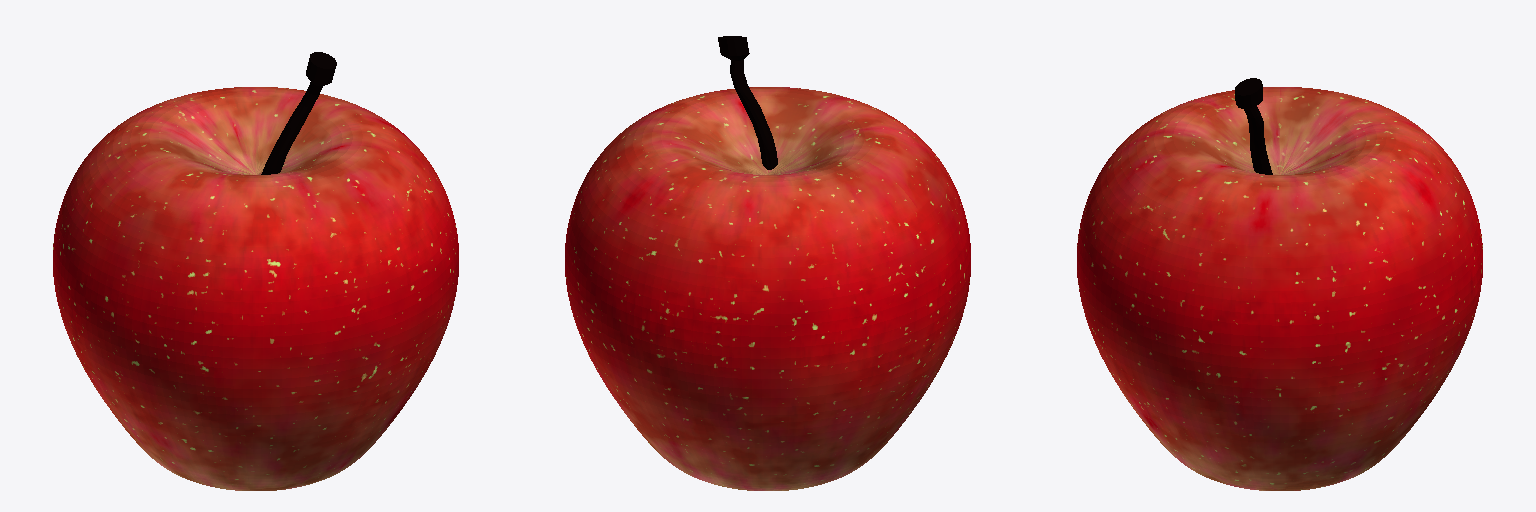
3 renders of one model, left to right at view 1: azimuth 30°, elevation 25°; view 2: azimuth 150°, elevation 25°; view 3: azimuth 270°, elevation 25°, orthographic.
Visible parts, largest first — view 1: 球, ベジエカーブ; view 2: 球, ベジエカーブ; view 3: 球, ベジエカーブ.
Boxes of the visible parts, x1,y1,x2,y2 form: 球: [53, 87, 458, 490]; ベジエカーブ: [261, 52, 336, 174]; 球: [565, 87, 970, 490]; ベジエカーブ: [718, 36, 777, 169]; 球: [1077, 87, 1482, 490]; ベジエカーブ: [1235, 78, 1272, 174].
Bounding box in the file's own units: 1.77 × 1.91 × 1.77.
2 materials, 1 textured.